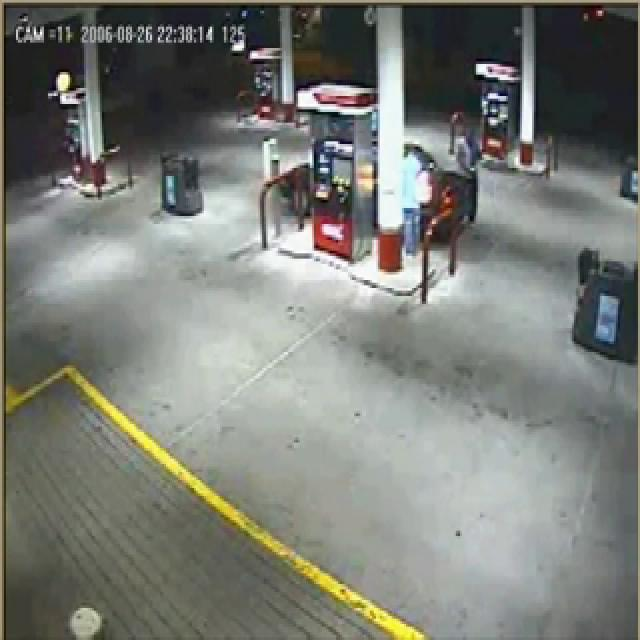explosion: (302, 18, 557, 316)
